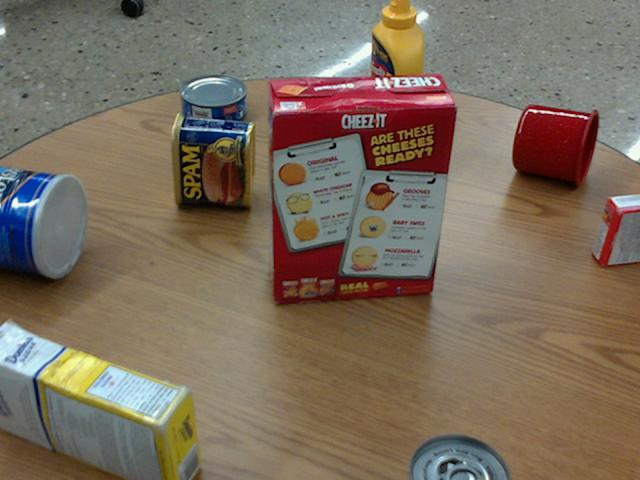cracker_box: (266, 72, 457, 301)
gelatin_box: (593, 196, 639, 267)
master_chef_can: (0, 165, 89, 276)
mug: (513, 104, 598, 186)
mustard_bottle: (367, 0, 423, 154)
potted_meat_can: (171, 111, 254, 204)
sugar_box: (0, 322, 200, 479)
tomato_soup_can: (410, 433, 511, 479)
tuna_fish_can: (181, 72, 247, 126)
